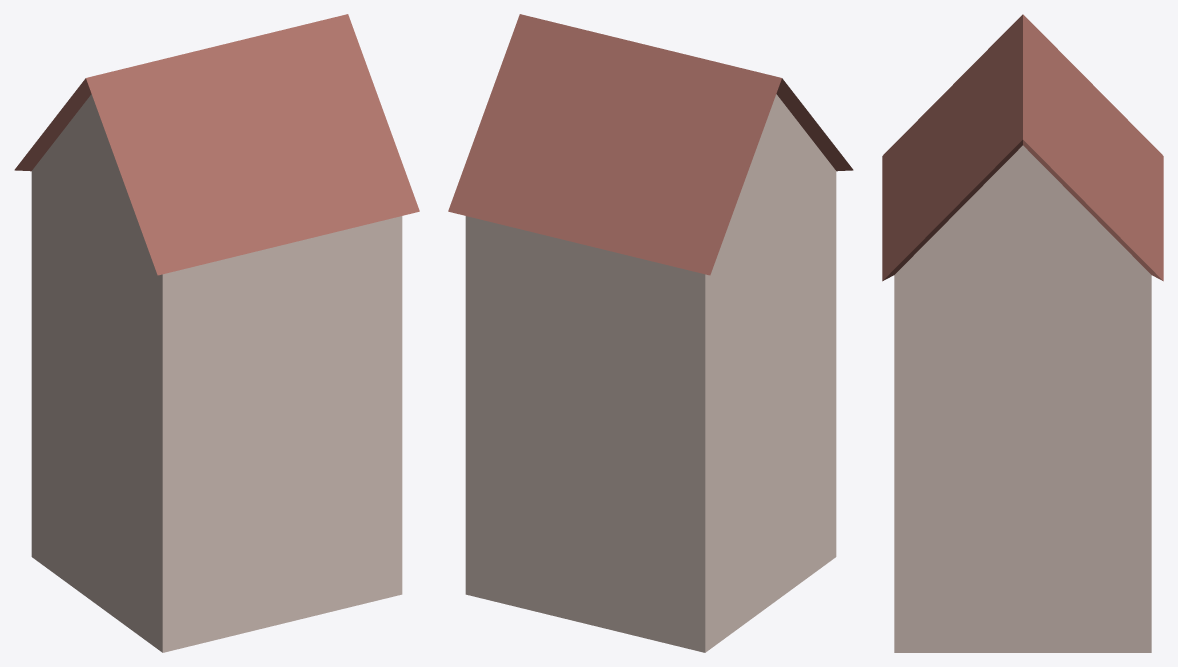
3 renders of one model, left to right at view 1: azimuth 30°, elevation 25°; view 2: azimuth 150°, elevation 25°; view 3: azimuth 270°, elevation 25°, orthographic. The views are drawn at different scales.
Parts seen in each view (by area): view 1: polySurface3; view 2: polySurface3; view 3: polySurface3.
Boxes of the visible parts, box(x1,y1,x2,y2) form: polySurface3: box(14, 14, 419, 652); polySurface3: box(448, 14, 853, 652); polySurface3: box(882, 14, 1163, 652).
Size of the model in its own units: 8.27 by 15.96 by 7.84.
